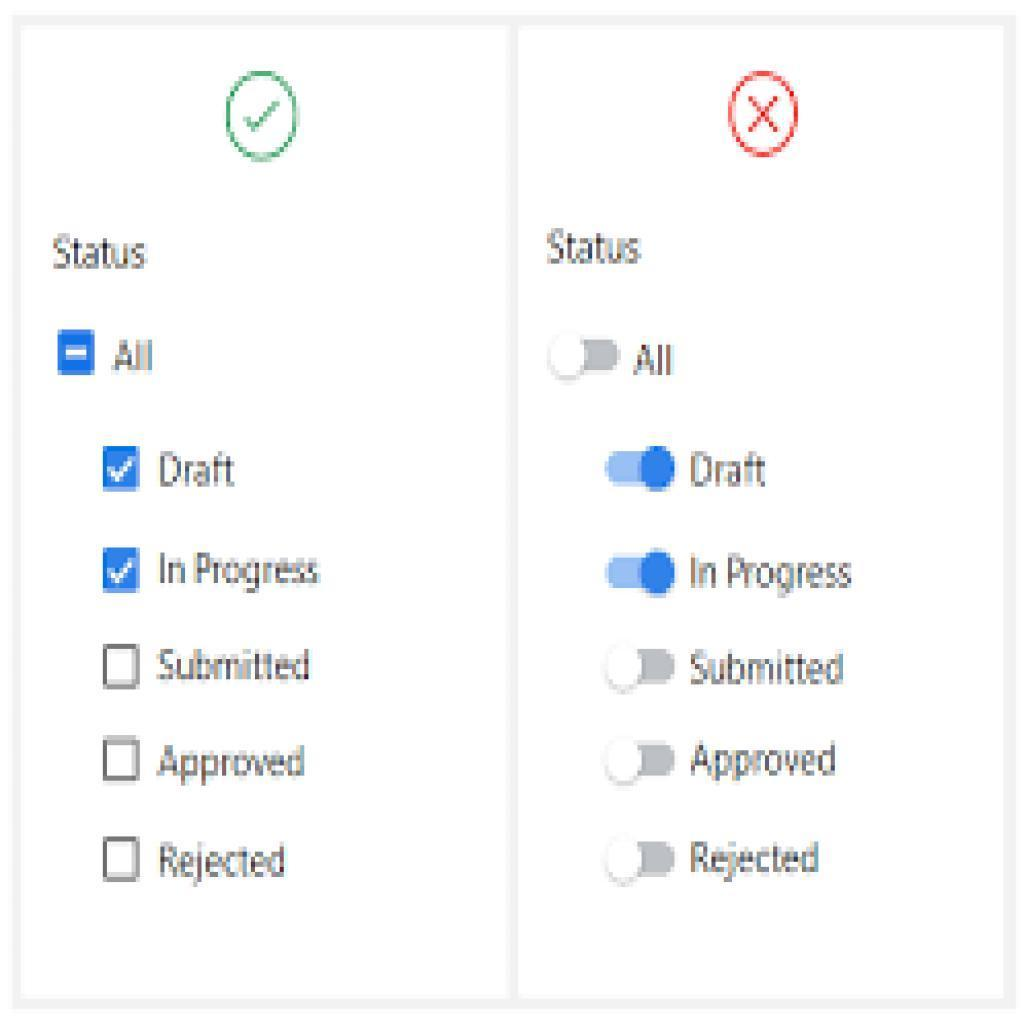checkbox: (103, 739, 142, 783), (104, 646, 140, 691), (103, 448, 140, 491), (107, 548, 140, 594), (104, 841, 138, 880)
label: (684, 549, 856, 595), (690, 739, 844, 788), (152, 552, 322, 595), (686, 644, 845, 689), (154, 737, 309, 782), (159, 643, 313, 685), (692, 835, 825, 881), (540, 223, 648, 274), (159, 843, 297, 881), (52, 233, 148, 278), (156, 449, 241, 495), (690, 449, 779, 490), (632, 339, 680, 385), (112, 335, 156, 379)
switch: (549, 333, 625, 379), (607, 834, 675, 884), (606, 647, 676, 692), (604, 550, 674, 595), (606, 449, 680, 491), (607, 740, 676, 784)
